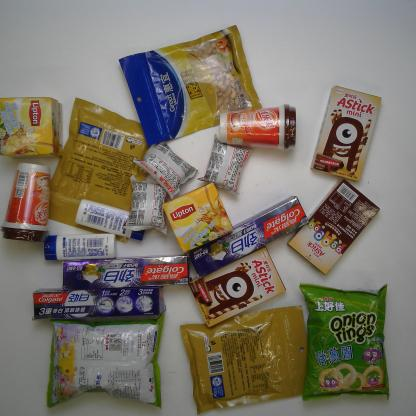Dessert: (285, 178, 385, 277), (186, 246, 288, 328), (309, 83, 384, 182), (132, 136, 198, 200), (195, 128, 253, 196), (124, 172, 172, 235)
Dried Fruit: (37, 96, 164, 246), (116, 23, 265, 147), (179, 304, 318, 414)
Instant Drink: (1, 157, 56, 246), (1, 94, 65, 162), (219, 102, 300, 151)
Personal Hygiene: (186, 192, 312, 279), (30, 281, 170, 320), (59, 250, 192, 290), (72, 197, 151, 242), (41, 229, 120, 264)
Puffed Food: (297, 279, 394, 405), (44, 314, 167, 413)
